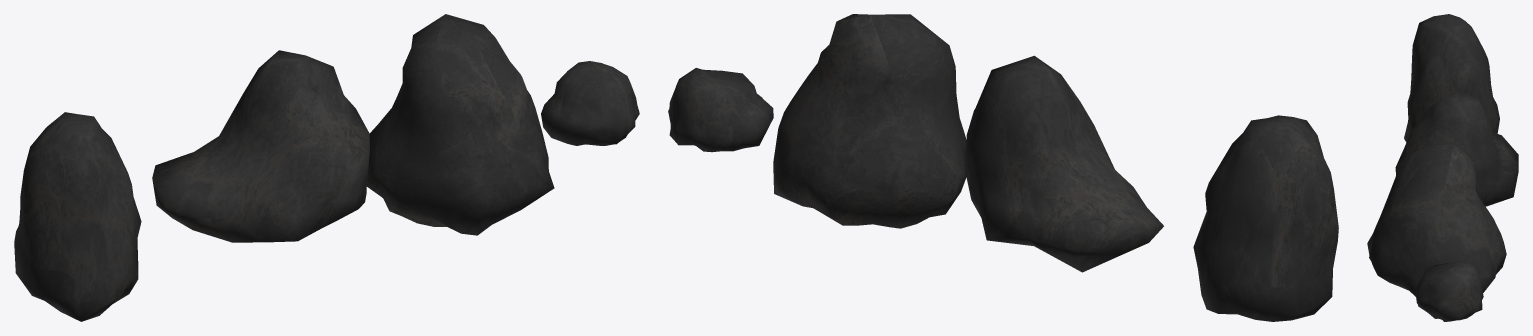
The model's file is rocks.fbx.
The picture shows the model from 3 angles, left to right: view 1: azimuth 30°, elevation 25°; view 2: azimuth 150°, elevation 25°; view 3: azimuth 270°, elevation 25°; orthographic projection. The views are drawn at different scales.
Parts seen in each view (by area): view 1: rock_1, rock_2, rock_3, rock_s; view 2: rock_1, rock_2, rock_3, rock_s; view 3: rock_1, rock_3, rock_2, rock_s.
Part boxes in pixels (x1=…): rock_1: x1=367, y1=14, x2=554, y2=235; rock_2: x1=152, y1=50, x2=369, y2=242; rock_3: x1=14, y1=112, x2=141, y2=321; rock_s: x1=541, y1=61, x2=639, y2=145; rock_1: x1=773, y1=14, x2=966, y2=228; rock_2: x1=965, y1=55, x2=1163, y2=272; rock_3: x1=1193, y1=115, x2=1338, y2=321; rock_s: x1=668, y1=68, x2=773, y2=152; rock_1: x1=1367, y1=144, x2=1506, y2=296; rock_3: x1=1404, y1=14, x2=1499, y2=142; rock_2: x1=1395, y1=89, x2=1518, y2=206; rock_s: x1=1415, y1=261, x2=1483, y2=321.
Bounding box in the file's own units: 1676 × 502 × 487.
